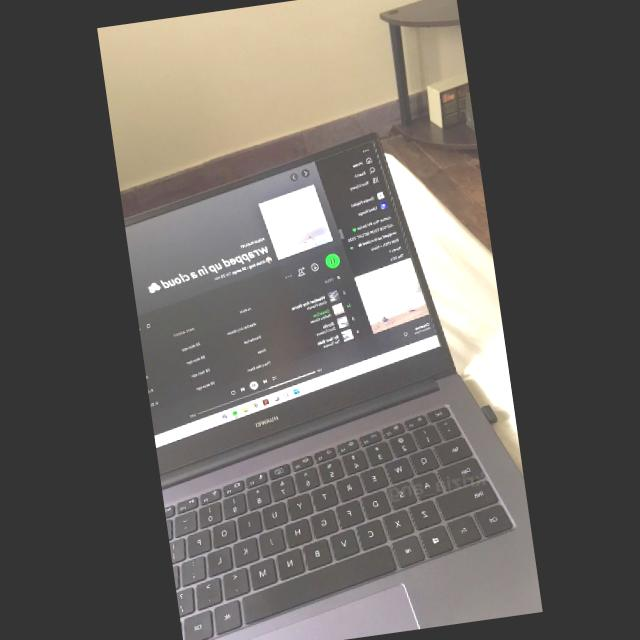laptop: (125, 133, 543, 640)
